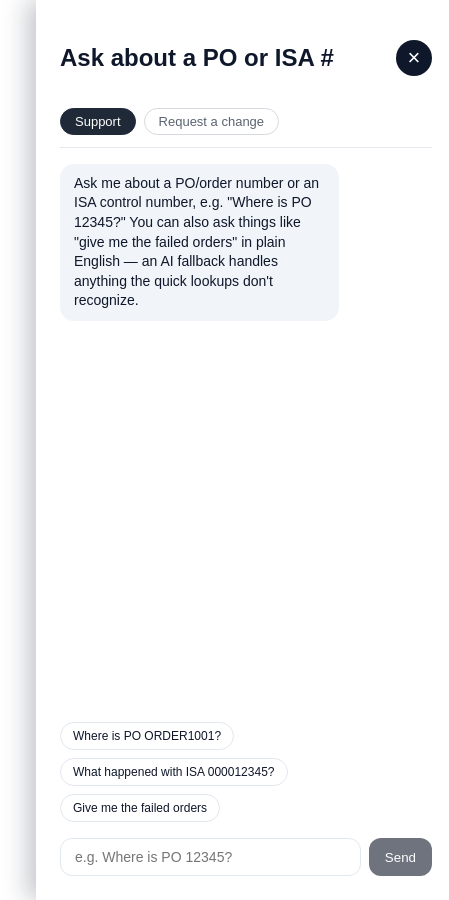
ChatPanel › sends recent conversation history with a follow-up question
Type "What happened with ISA 1?" into the field with placeholder "e.g. Where is PO 12345?".
click(210, 857); type("What happened with ISA 1?")  # box [60,838,361,876]
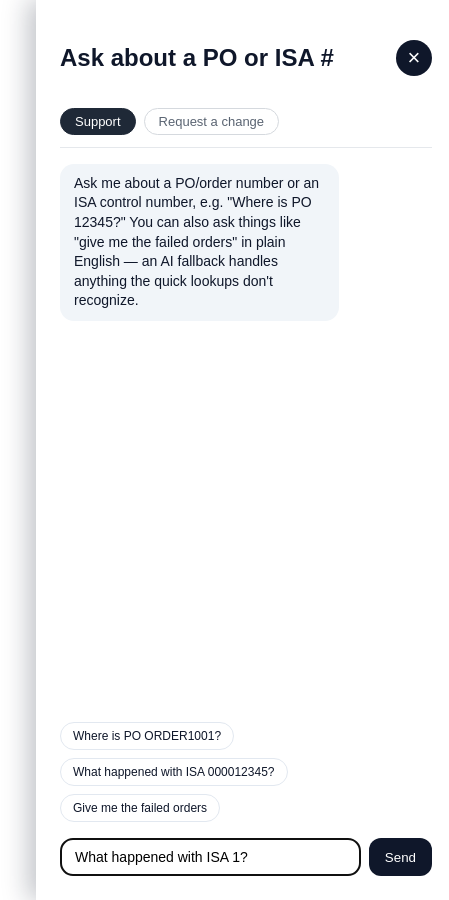
Click the button "Send".
click(400, 857)  # box [369,838,432,876]
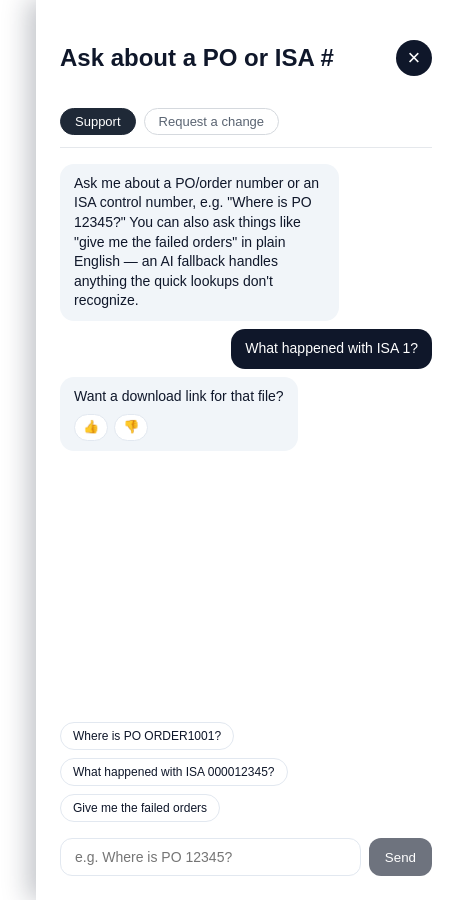
expect the text "Want a download link for that file?" is shown: met, box [74,388,284,404]
Type "yes" into the field with placeholder "e.g. Where is PO 12345?".
click(210, 857); type("yes")  # box [60,838,361,876]
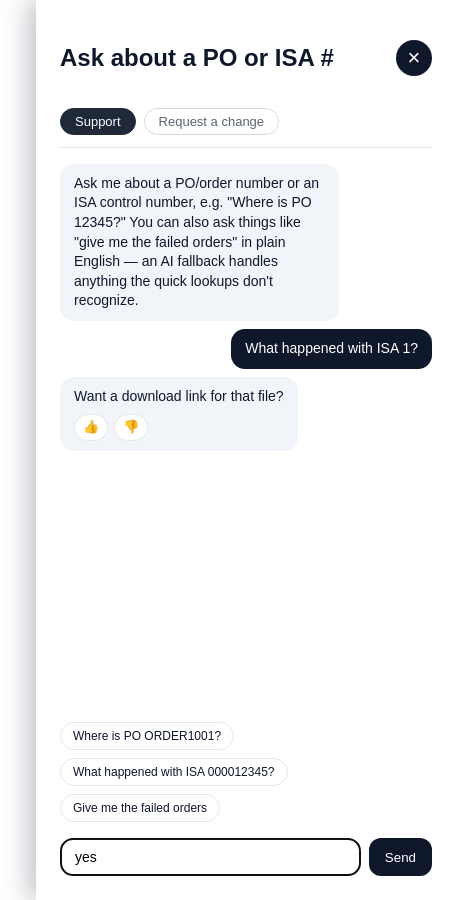
Click the button "Send".
click(400, 857)  # box [369,838,432,876]
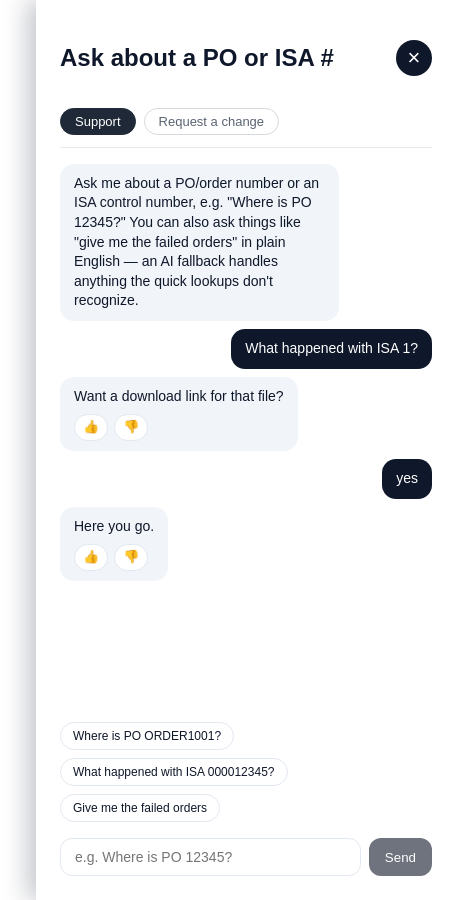
expect the text "Here you go." is shown: met, box [74,518,154,534]
expect the text "yes" is shown: met, box [382,459,432,499]
